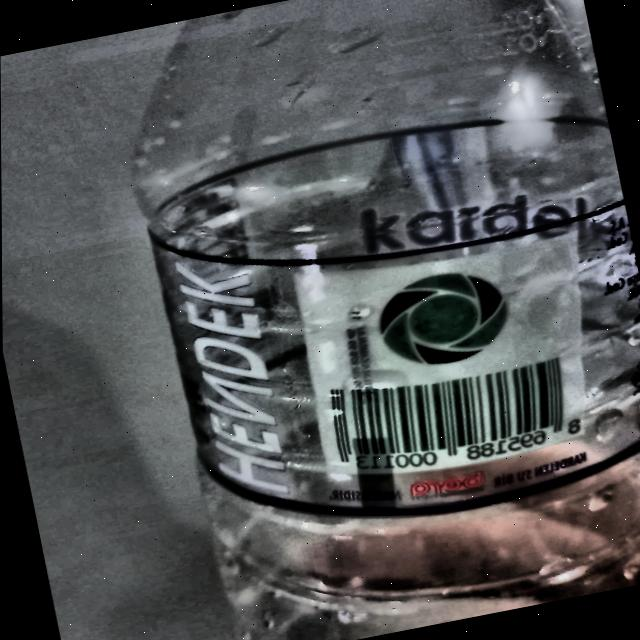plastic: (130, 0, 640, 640)
